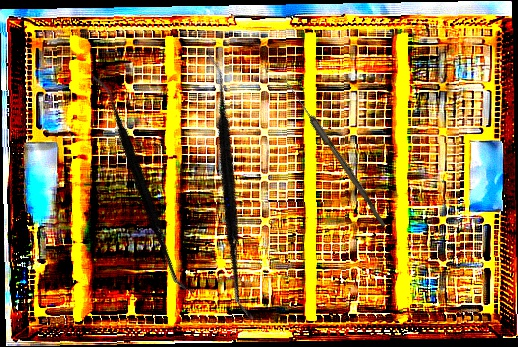Spatula Surgical: (105, 51, 357, 321), (24, 73, 264, 296)
Surgical Spoon: (282, 79, 389, 227)
